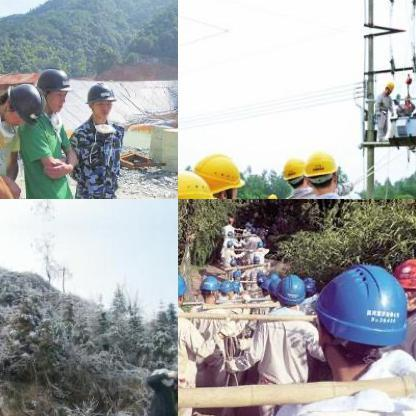Helmet: (309, 255, 410, 371), (189, 147, 249, 198), (0, 78, 47, 128), (298, 142, 338, 192), (34, 64, 72, 112), (178, 160, 226, 198), (279, 148, 309, 190), (84, 80, 116, 118), (275, 272, 305, 304), (394, 253, 415, 297), (197, 272, 217, 300), (266, 274, 282, 298), (178, 267, 187, 305), (217, 276, 231, 296), (383, 79, 395, 93), (171, 367, 177, 392), (264, 189, 276, 198)
